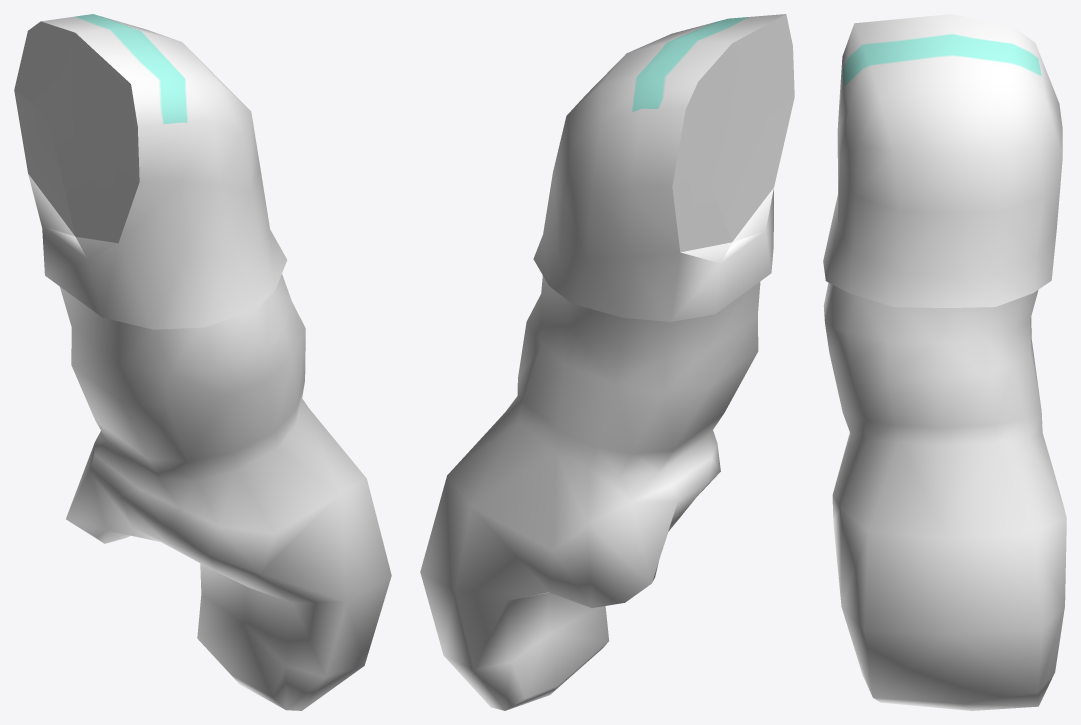
The picture shows the model from 3 angles, left to right: view 1: azimuth 30°, elevation 25°; view 2: azimuth 150°, elevation 25°; view 3: azimuth 270°, elevation 25°; orthographic projection. The views are drawn at different scales.
Parts seen in each view (by area): view 1: Mesh; view 2: Mesh; view 3: Mesh.
Part boxes in pixels (x1,y1,x2,y2): Mesh: (14,14,391,710); Mesh: (420,14,794,710); Mesh: (823,14,1066,710).
Bounding box in the file's own units: 0.9273 × 2.18 × 0.7809.
